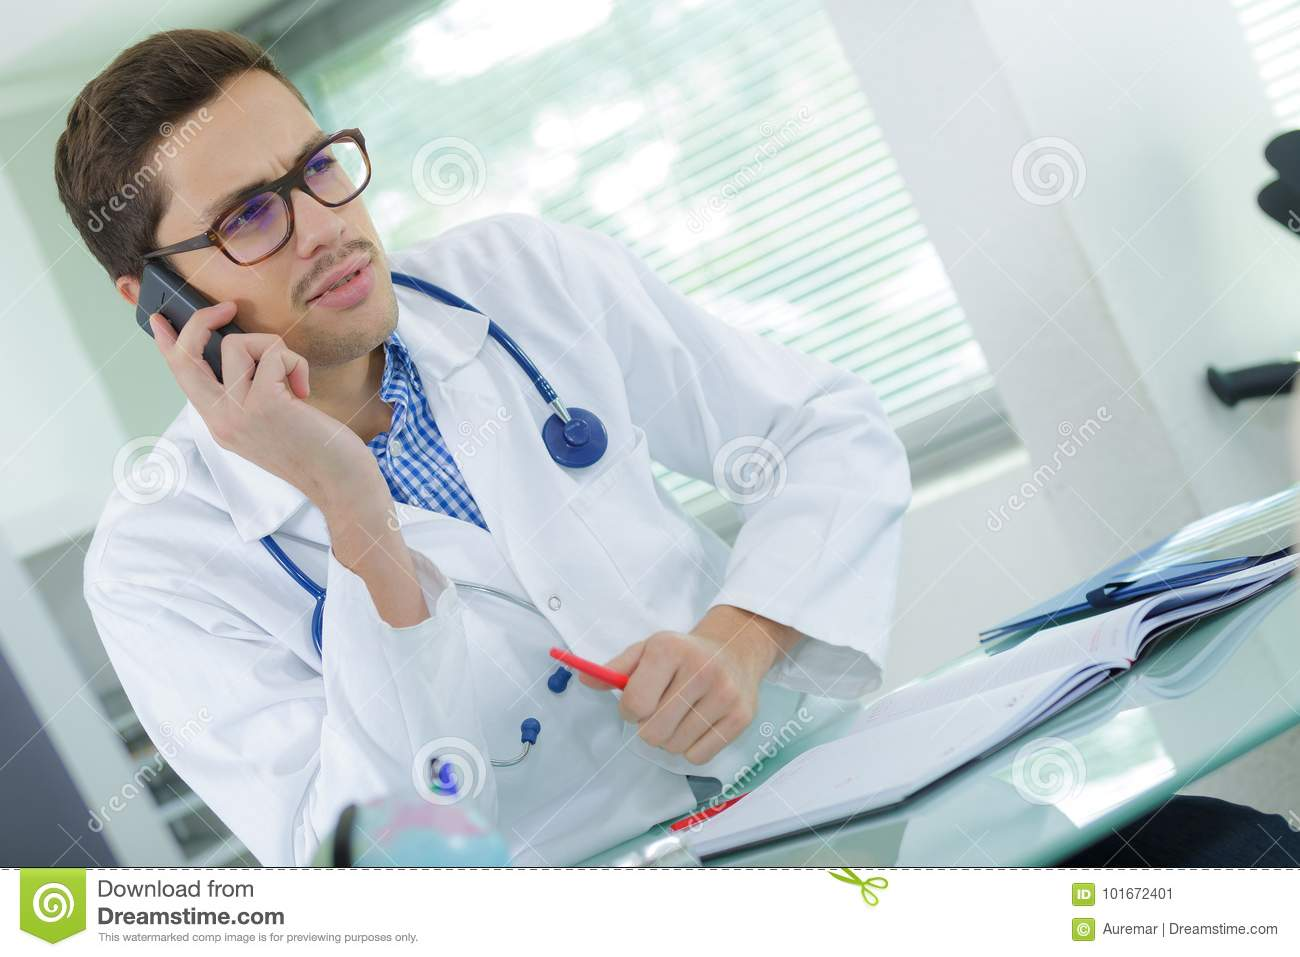phone: (135, 265, 263, 398)
talk: (136, 119, 406, 514)
